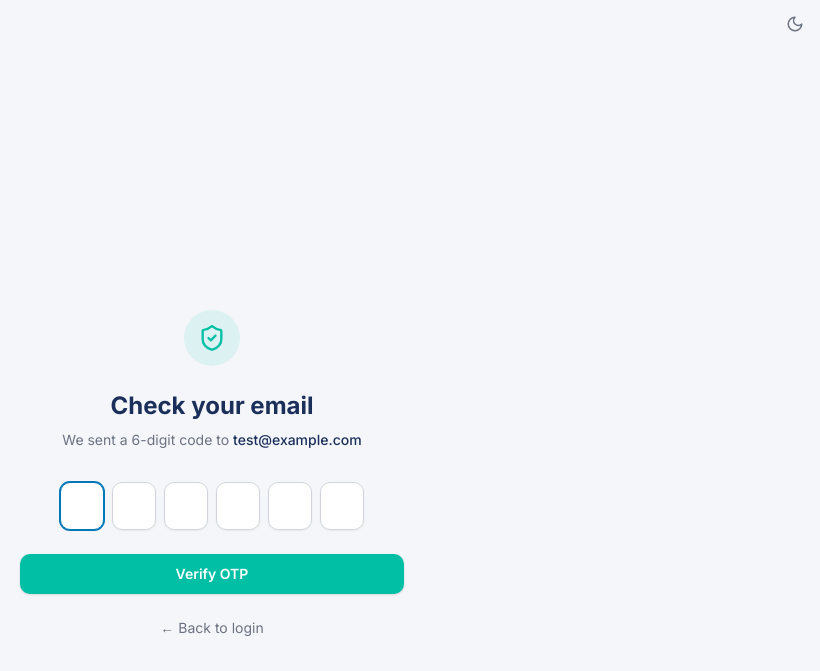
it: OTPPage › shows error when submitting incomplete OTP
Type only 3 digits
Type "1" into the 1st field at (82, 506), box [60,482,104,530]
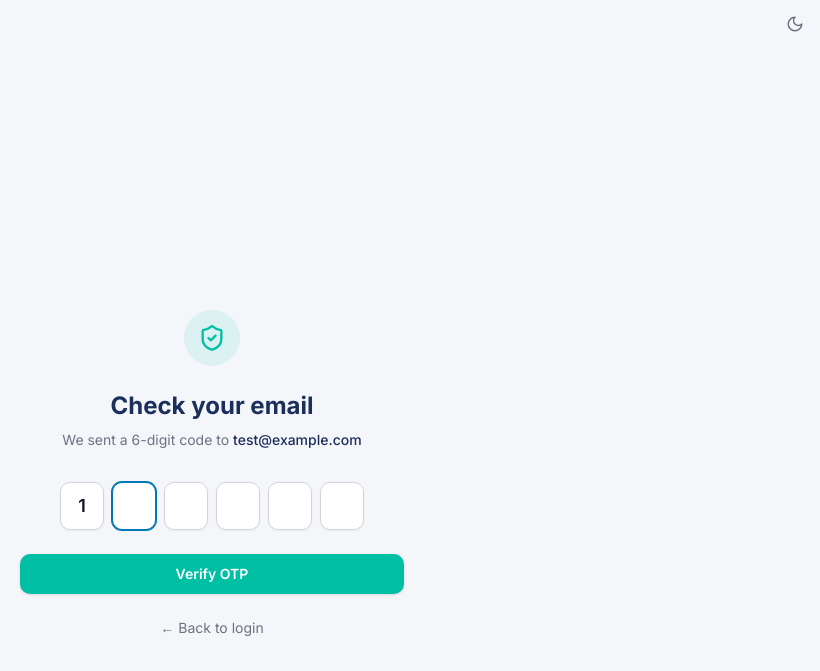
Type "2" into the 2nd field at (134, 506), box [112,482,156,530]
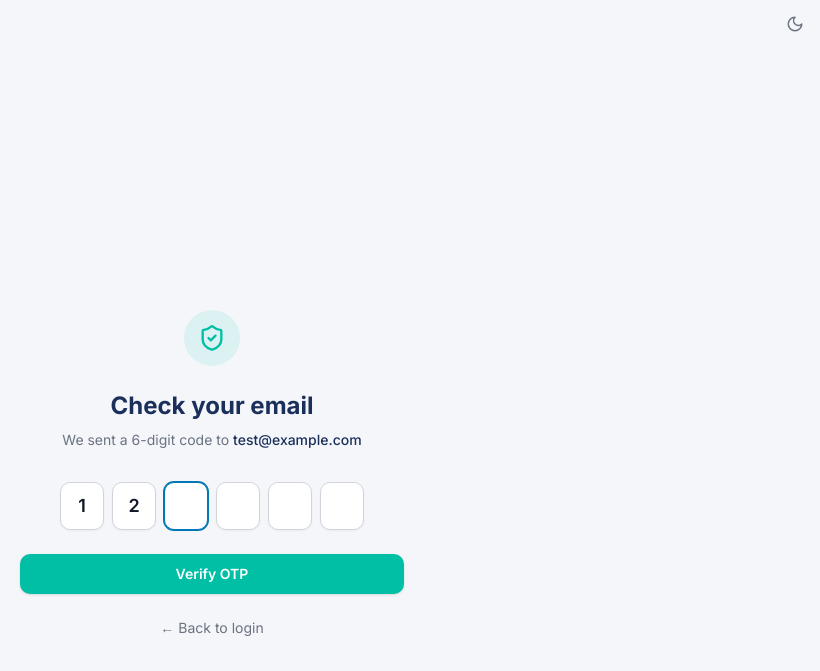
Type "3" into the 3rd field at (186, 506), box [164,482,208,530]
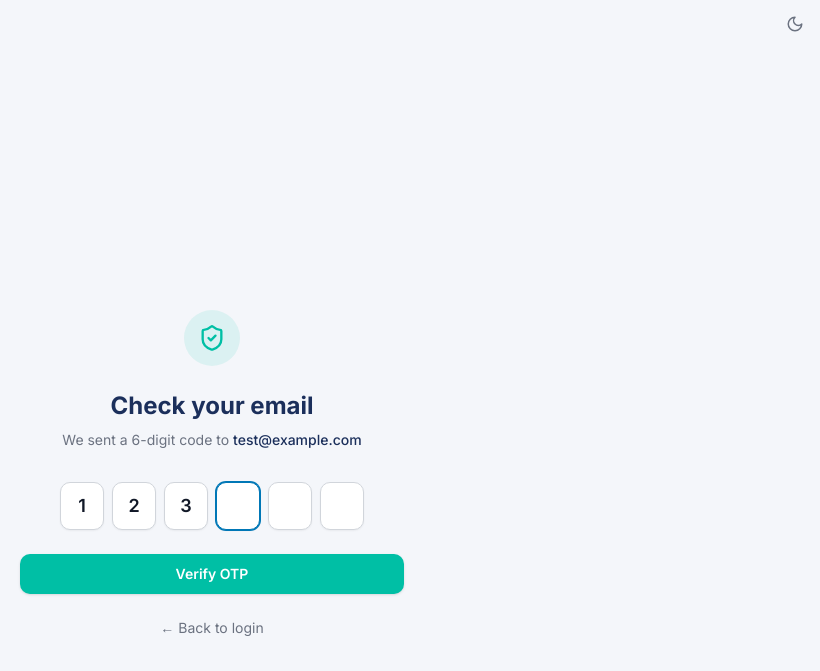
Click the button "Verify OTP" at (212, 574), box [20,554,404,594]
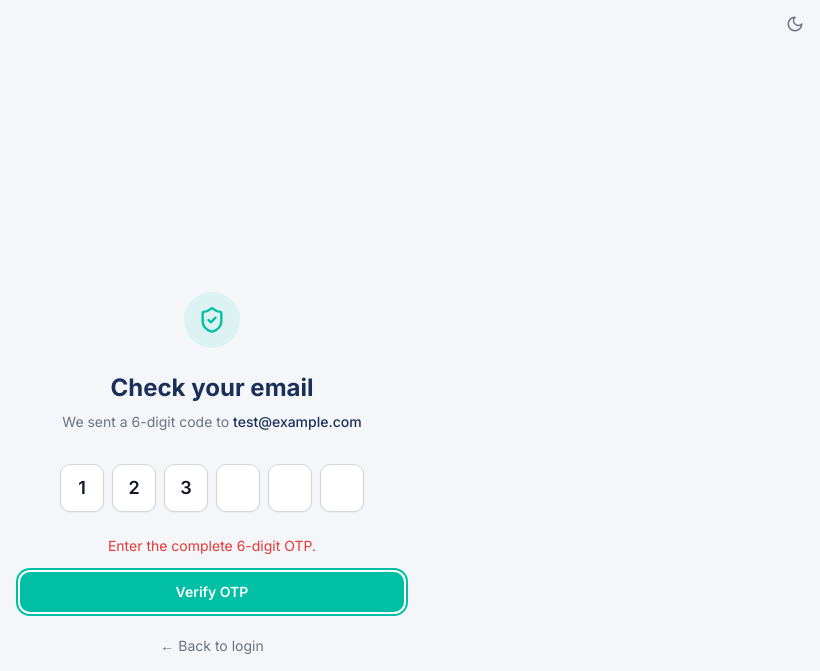
expect the text "Enter the complete 6-digit OTP." is shown: met, box [108,536,316,554]
